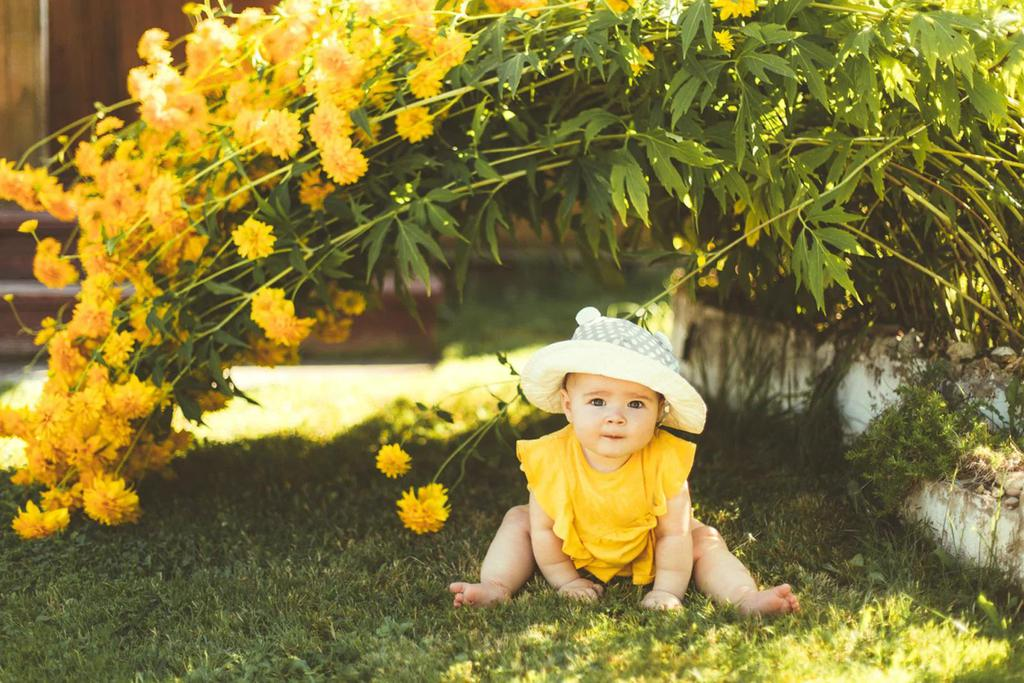child: (420, 316, 846, 646)
